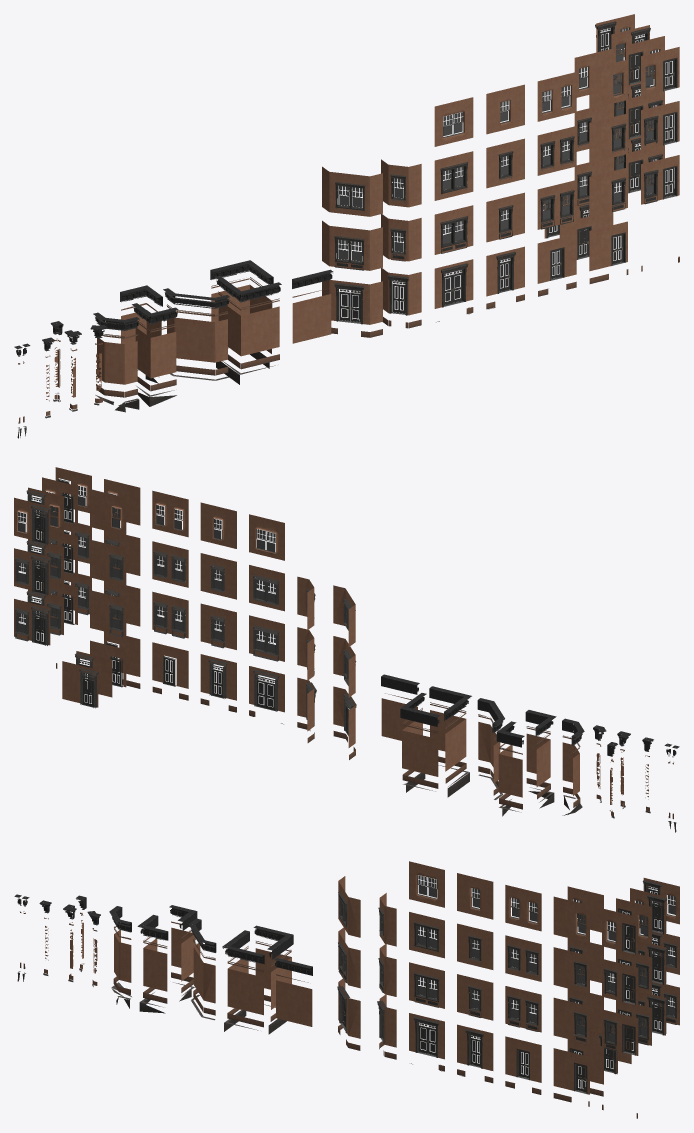
Rendered from modular_urban_apartments_facade.glb.
3 views of the same model, one above another, from view 1: azimuth 30°, elevation 25°; view 2: azimuth 150°, elevation 25°; view 3: azimuth 330°, elevation 25° (orthographic). The views are drawn at different scales.
Parts seen in each view (by area): view 1: wall_standard_corner_large_01, wall_standard_angled_large_01, wall_window_angled_large_02, wall_window_angled_large_01, wall_standard_corner_small_01, wall_standard_standard_01, wall_standard_angled_small_01, wall_window_offset_small_05, wall_window_centered_small_03, wall_window_angled_small_02, wall_window_centered_double_03, wall_window_offset_small_03 (+39 smaller); view 2: wall_standard_corner_large_02, wall_standard_corner_large_01, wall_window_offset_small_06, wall_window_centered_small_03, wall_window_centered_small_02, wall_window_centered_small_01, wall_window_offset_small_04, wall_window_offset_small_02, wall_window_centered_double_03, wall_door_centered_small_02, wall_standard_corner_small_01, wall_standard_corner_small_02 (+42 smaller); view 3: wall_standard_corner_large_01, wall_standard_standard_01, wall_window_offset_small_05, wall_window_centered_small_03, wall_window_centered_small_02, wall_window_offset_small_03, wall_window_centered_small_01, wall_window_offset_small_01, wall_window_centered_double_03, wall_standard_corner_small_01, wall_door_centered_small_02, wall_door_offset_small_01 (+54 smaller).
Boxes of the visible parts, x1,y1,x2,y2 form: wall_standard_corner_large_01: (218, 306, 279, 356); wall_standard_angled_large_01: (167, 317, 227, 362); wall_window_angled_large_02: (322, 166, 382, 216); wall_window_angled_large_01: (322, 220, 382, 270); wall_standard_corner_small_01: (135, 328, 176, 378); wall_standard_standard_01: (292, 294, 331, 343); wall_standard_angled_small_01: (97, 338, 137, 384); wall_window_offset_small_05: (589, 59, 627, 109); wall_window_centered_small_03: (486, 84, 524, 134); wall_window_angled_small_02: (381, 159, 421, 207); wall_window_centered_double_03: (537, 72, 576, 121); wall_window_offset_small_03: (589, 113, 627, 163); wall_standard_corner_large_02: (402, 721, 438, 776); wall_standard_corner_large_01: (430, 710, 466, 771); wall_window_offset_small_06: (90, 489, 126, 535); wall_window_centered_small_03: (200, 502, 236, 548); wall_window_centered_small_02: (200, 553, 236, 599); wall_window_centered_small_01: (200, 603, 236, 649); wall_window_offset_small_04: (90, 539, 126, 585); wall_window_offset_small_02: (90, 590, 126, 636); wall_window_centered_double_03: (152, 490, 188, 537); wall_door_centered_small_02: (152, 642, 188, 688); wall_standard_corner_small_01: (526, 733, 550, 786); wall_standard_corner_small_02: (498, 745, 522, 797); wall_standard_corner_large_01: (227, 959, 263, 1015); wall_standard_standard_01: (276, 980, 312, 1026); wall_window_offset_small_05: (553, 896, 589, 943); wall_window_centered_small_03: (457, 873, 493, 919); wall_window_centered_small_02: (457, 923, 493, 969); wall_window_offset_small_03: (553, 947, 589, 993); wall_window_centered_small_01: (457, 974, 493, 1020); wall_window_offset_small_01: (553, 997, 589, 1044); wall_window_centered_double_03: (505, 885, 541, 931); wall_standard_corner_small_01: (143, 938, 167, 991); wall_door_centered_small_02: (505, 1036, 541, 1082); wall_door_offset_small_01: (553, 1048, 589, 1094).
Size of the model in its own units: 51.53 by 17 by 6.67.
5 materials, 5 textured.
